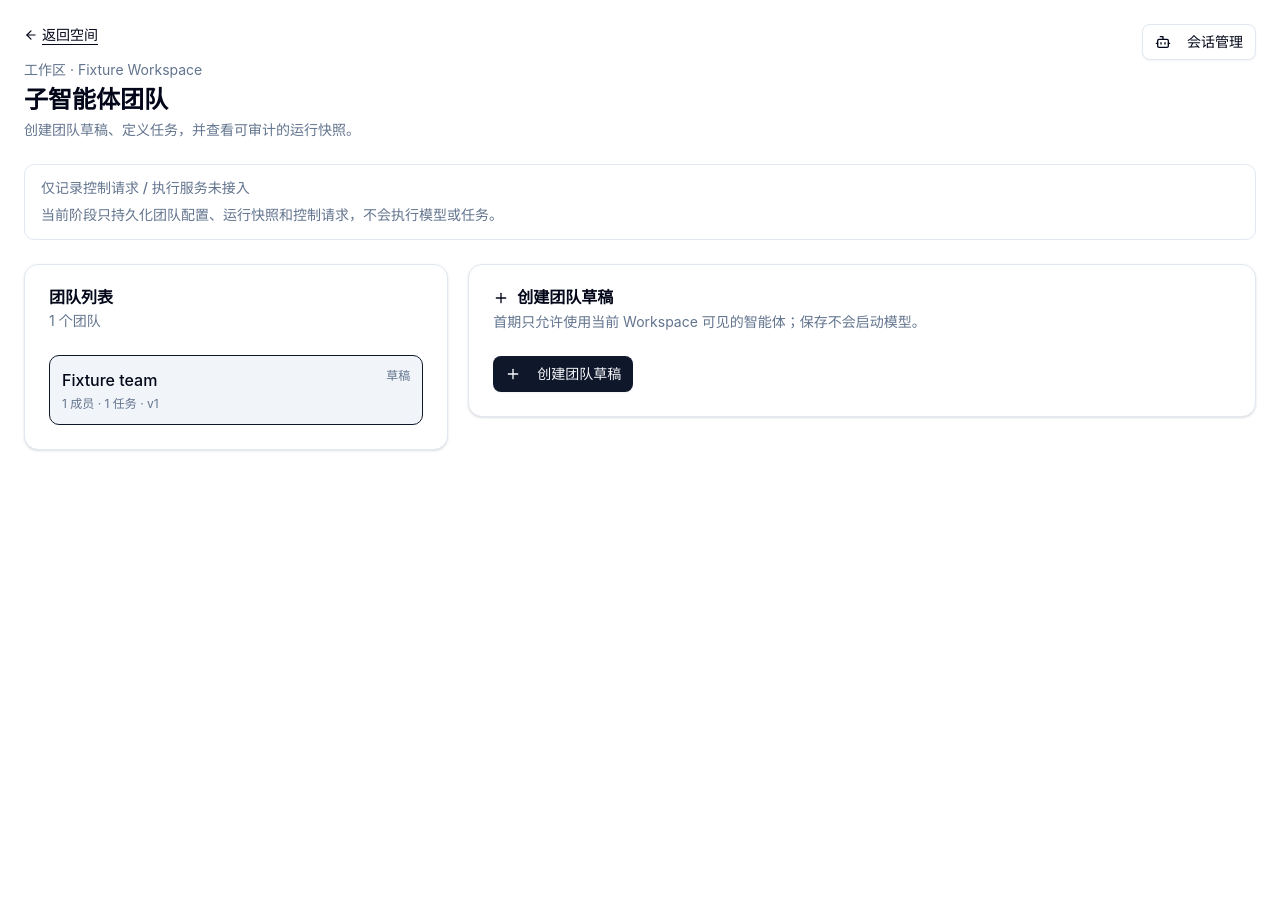
Test: F27b team control UI with fixture APIs › keeps the draft inputs after a duplicate-name conflict and allows renaming before retry
Click the button "创建团队草稿" at (563, 374), box [493,356,633,392]
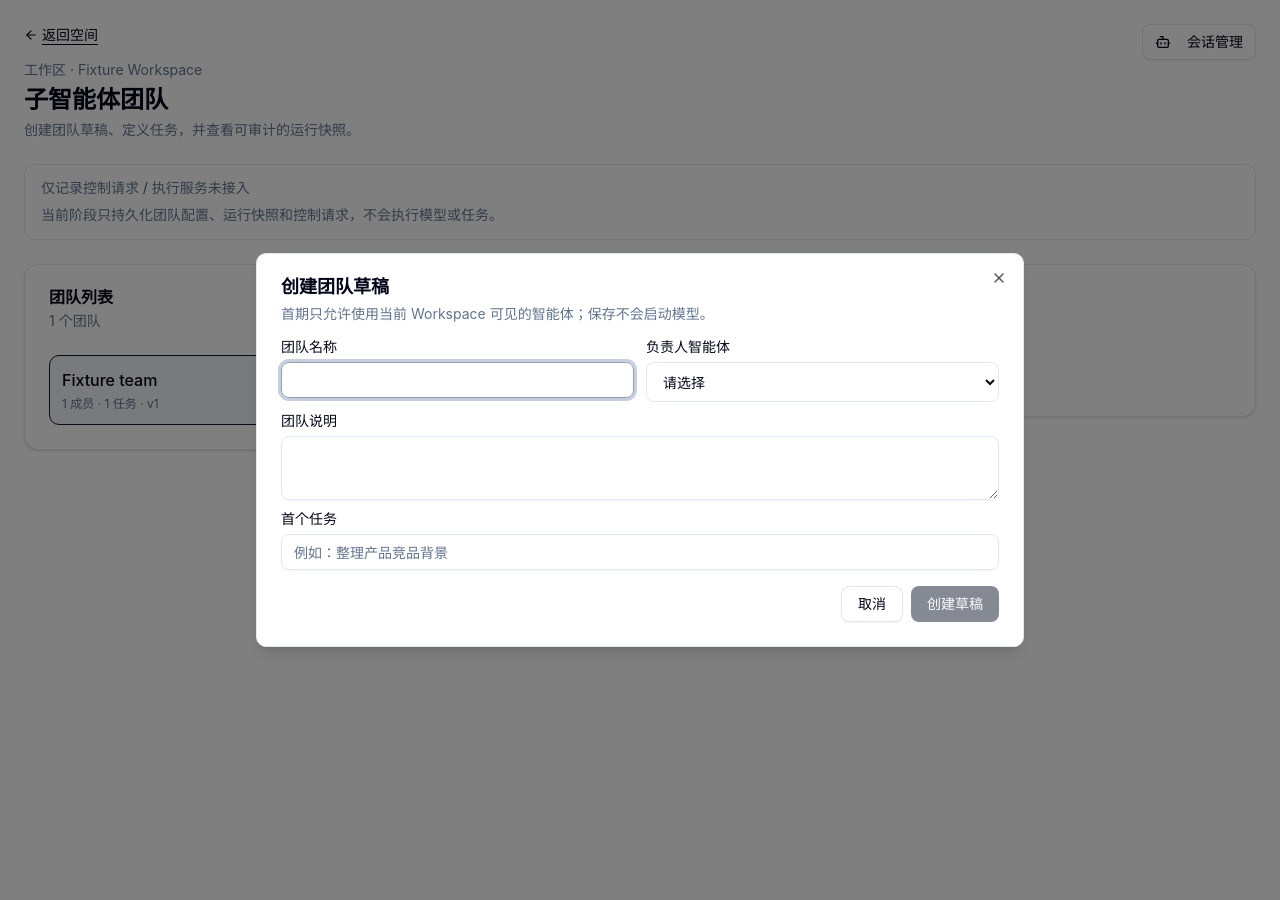
Type "Duplicate fixture name" into the field labelled "团队名称" at (458, 380), box [281,362,634,398]
Type "Fixture task" into the field labelled "首个任务" at (640, 552), box [281,534,999,570]
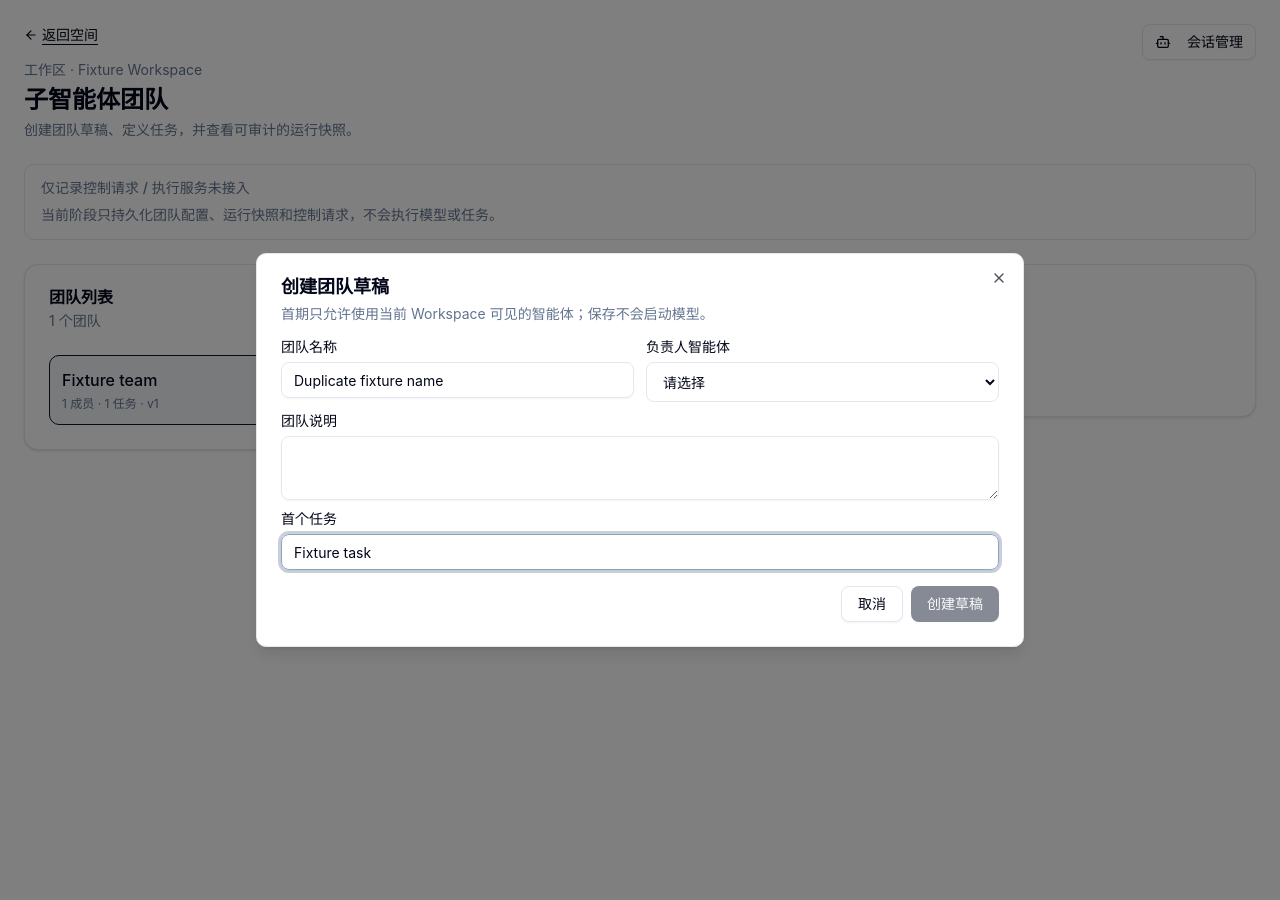
Select "Fixture agent" in the dropdown labelled "负责人智能体" at (822, 382), box [646,362,999,402]
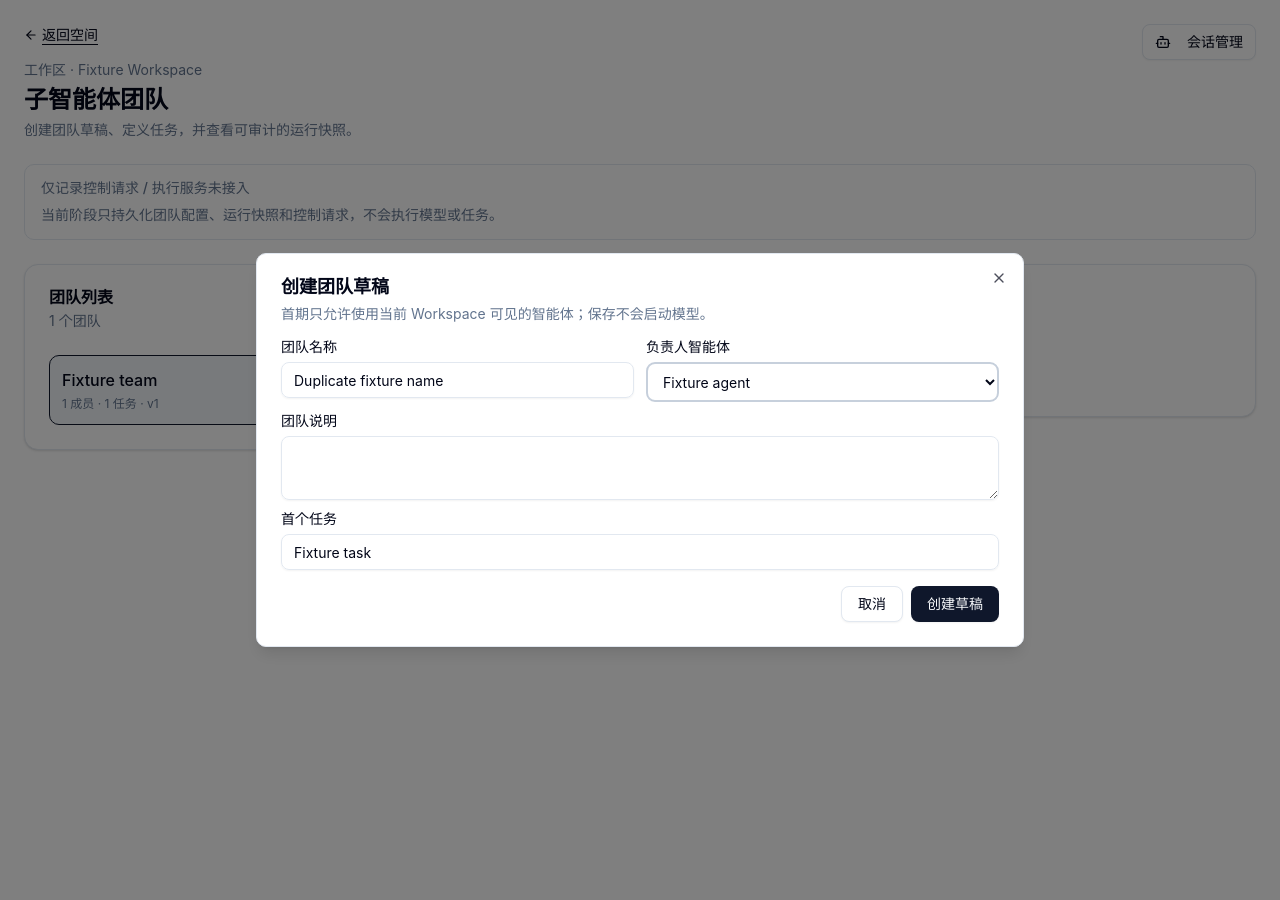
Click the button "创建草稿" at (955, 604), box [911,586,999,622]
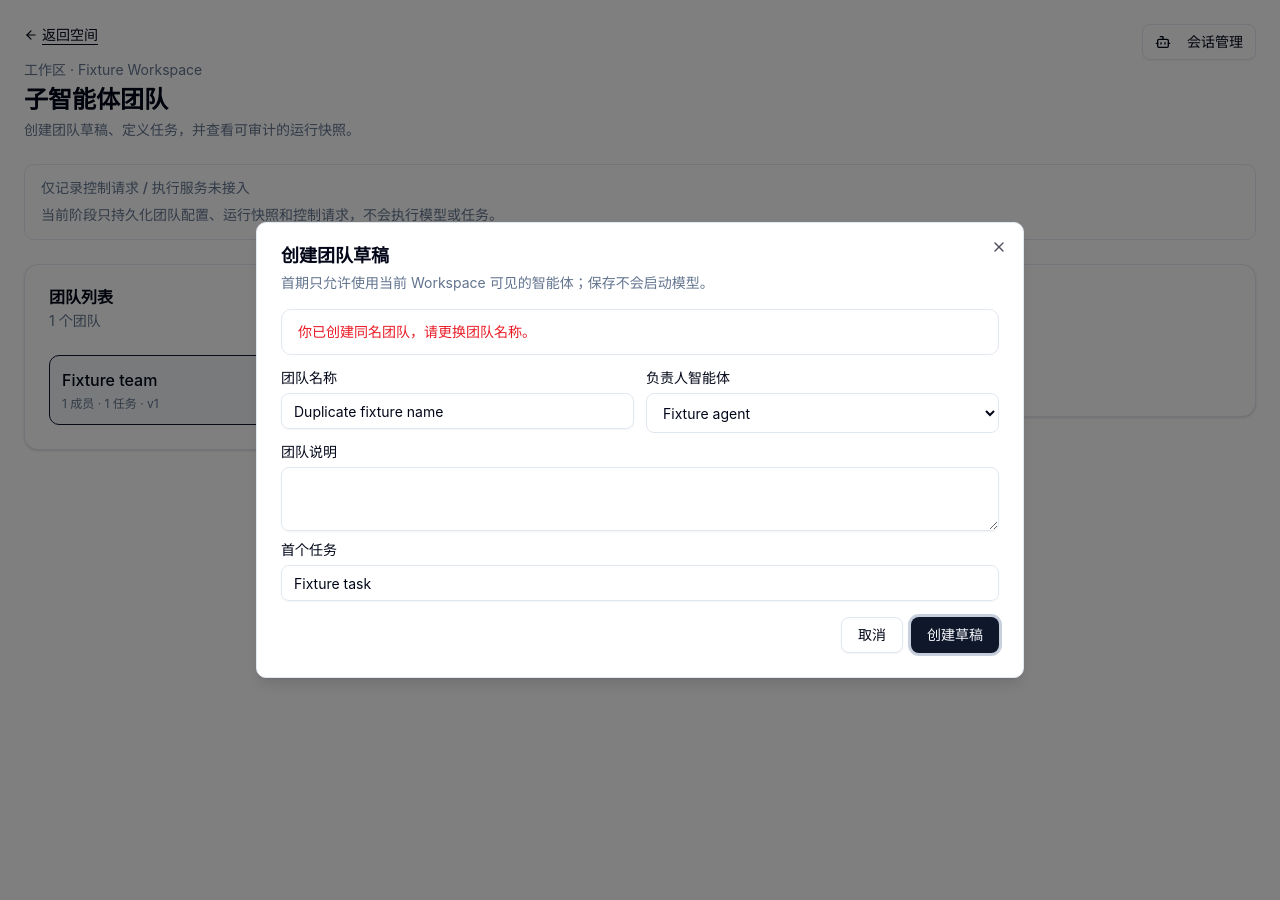
Check: the message reads "你已创建同名团队，请更换团队名称。", box [298,323,536,340]
Replace the text in the field labelled "团队名称" with "Unique fixture name" at (458, 411), box [281,393,634,429]
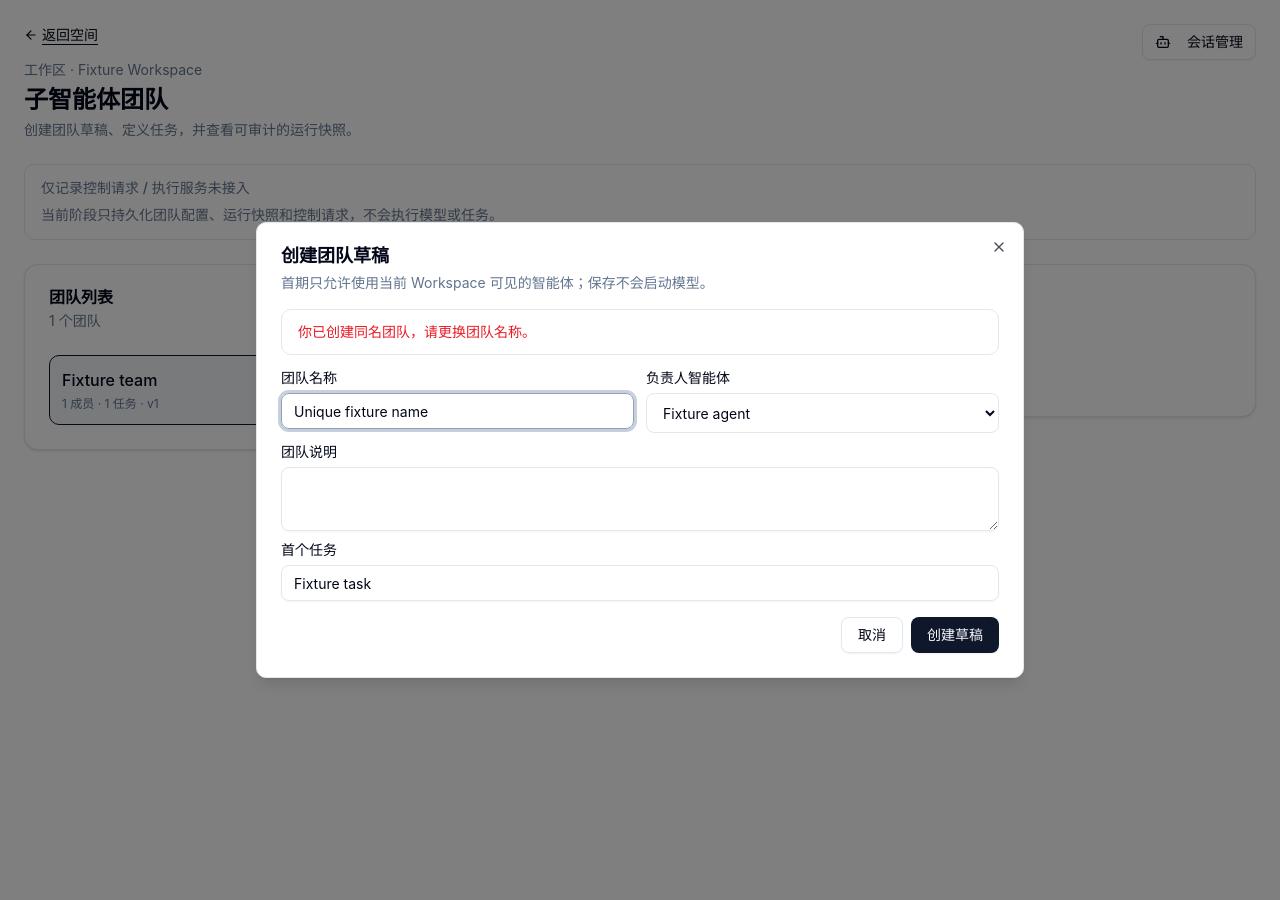
Click the button "创建草稿" at (955, 635), box [911,617,999,653]
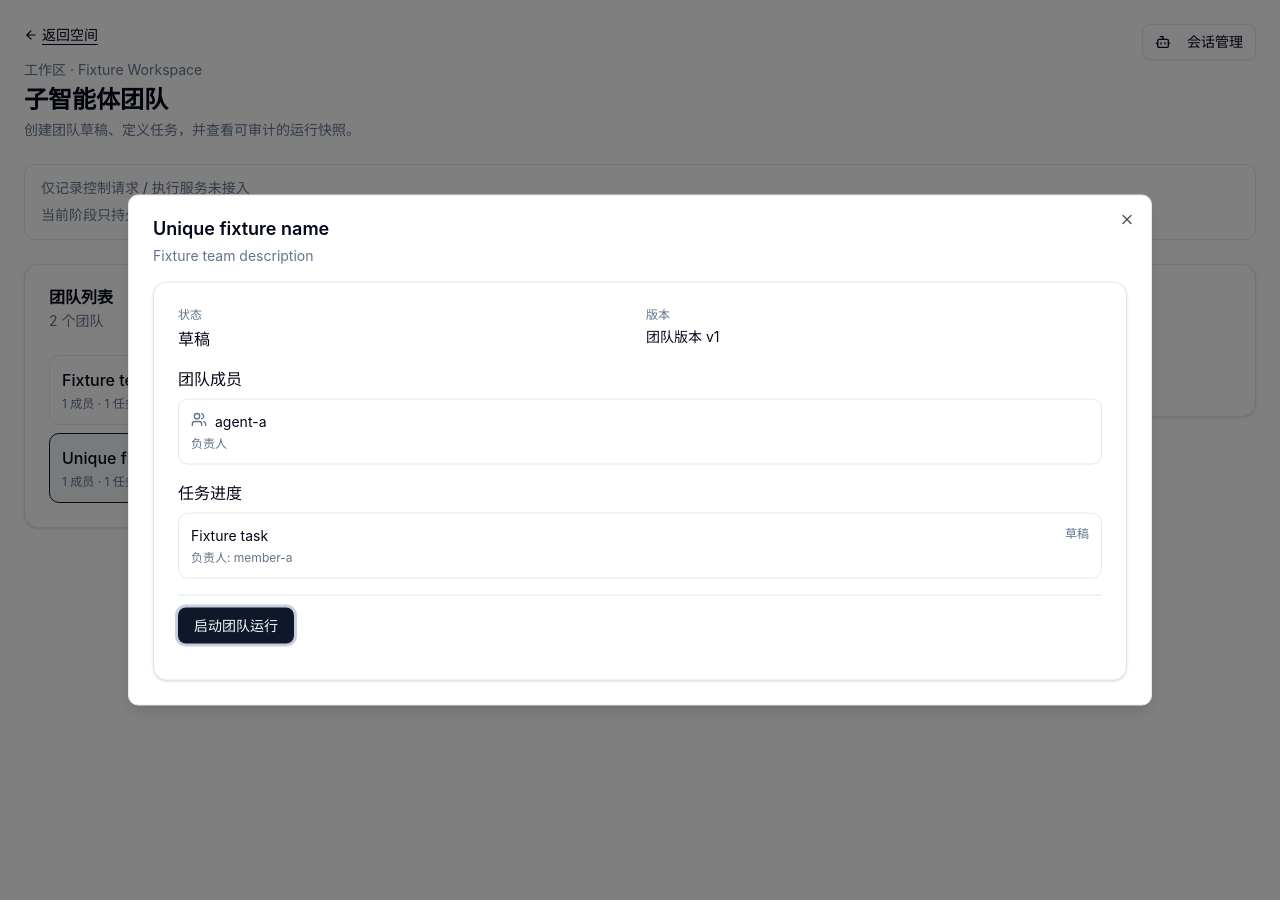
Check: the dialog shows "Unique fixture name", box [153,218,329,238]
Check: the text "Unique fixture name" is shown, box [62,446,217,470]
